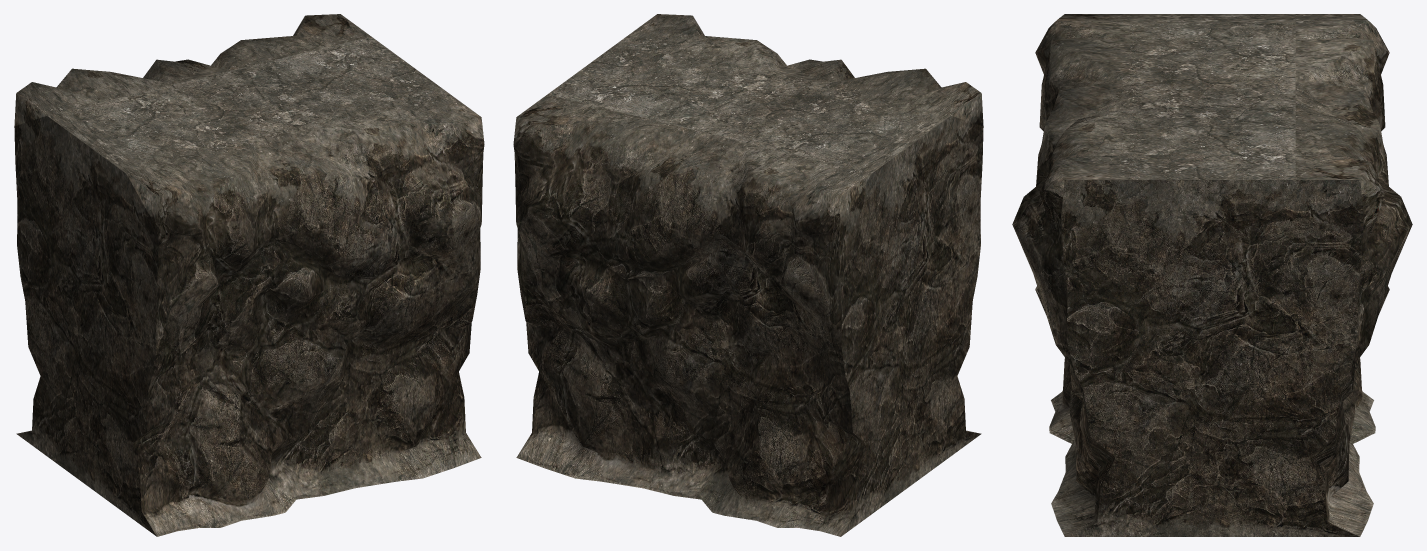
File: SM_Env_Fire_Cliffs_CliffWall_03a.FBX
3 renders of one model, left to right at view 1: azimuth 30°, elevation 25°; view 2: azimuth 150°, elevation 25°; view 3: azimuth 270°, elevation 25°, orthographic. The views are drawn at different scales.
Parts seen in each view (by area): view 1: SM_Env_Fire_Cliffs_CliffWall_03a; view 2: SM_Env_Fire_Cliffs_CliffWall_03a; view 3: SM_Env_Fire_Cliffs_CliffWall_03a.
Part boxes in pixels (x1,y1,x2,y2): SM_Env_Fire_Cliffs_CliffWall_03a: (14, 14, 484, 536); SM_Env_Fire_Cliffs_CliffWall_03a: (513, 14, 983, 536); SM_Env_Fire_Cliffs_CliffWall_03a: (1012, 14, 1412, 536).
Bounding box in the file's own units: 1020 × 1040 × 1038.
